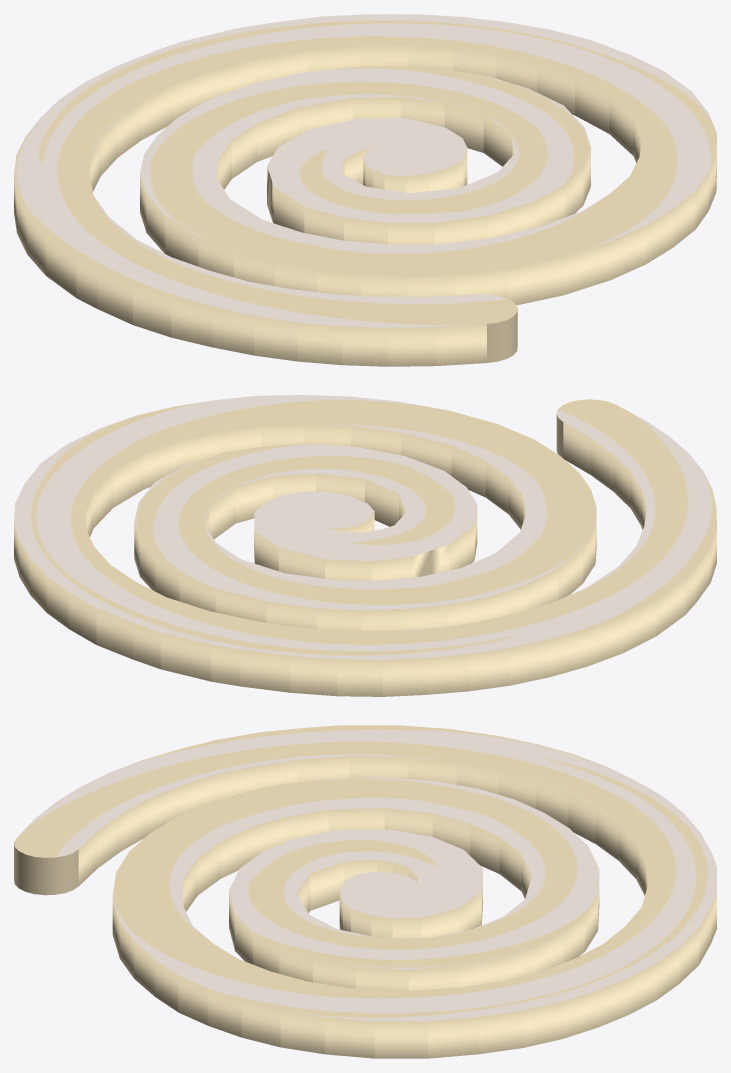
File: Mayo_Slice.glb
3 renders of one model, top to bottom at view 1: azimuth 30°, elevation 25°; view 2: azimuth 150°, elevation 25°; view 3: azimuth 270°, elevation 25°, orthographic. The views are drawn at different scales.
Visible parts, largest first — view 1: Mayo_Slice; view 2: Mayo_Slice; view 3: Mayo_Slice.
Part boxes in pixels (x1,y1,x2,y2): Mayo_Slice: (14,14,716,366); Mayo_Slice: (14,395,716,696); Mayo_Slice: (14,725,716,1058).
Bounding box in the file's own units: 17 × 1 × 17.06.
1 material, 1 textured.
